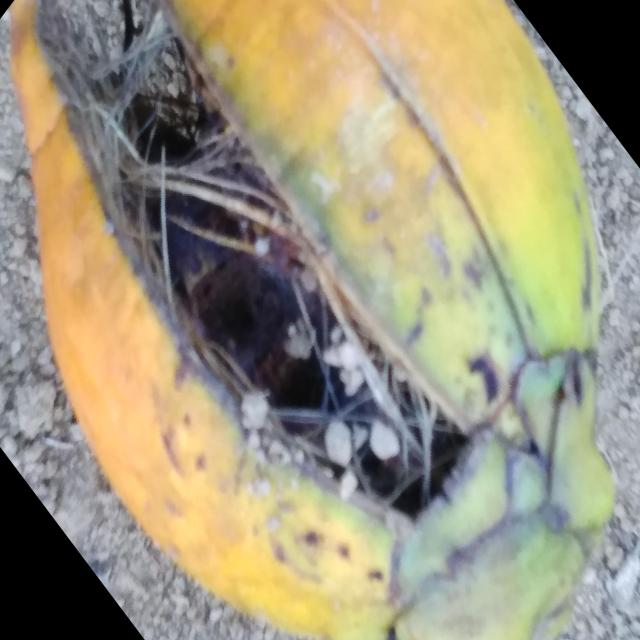damaged: (5, 0, 616, 640)
